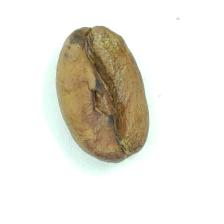NG: (71, 27, 135, 147)
